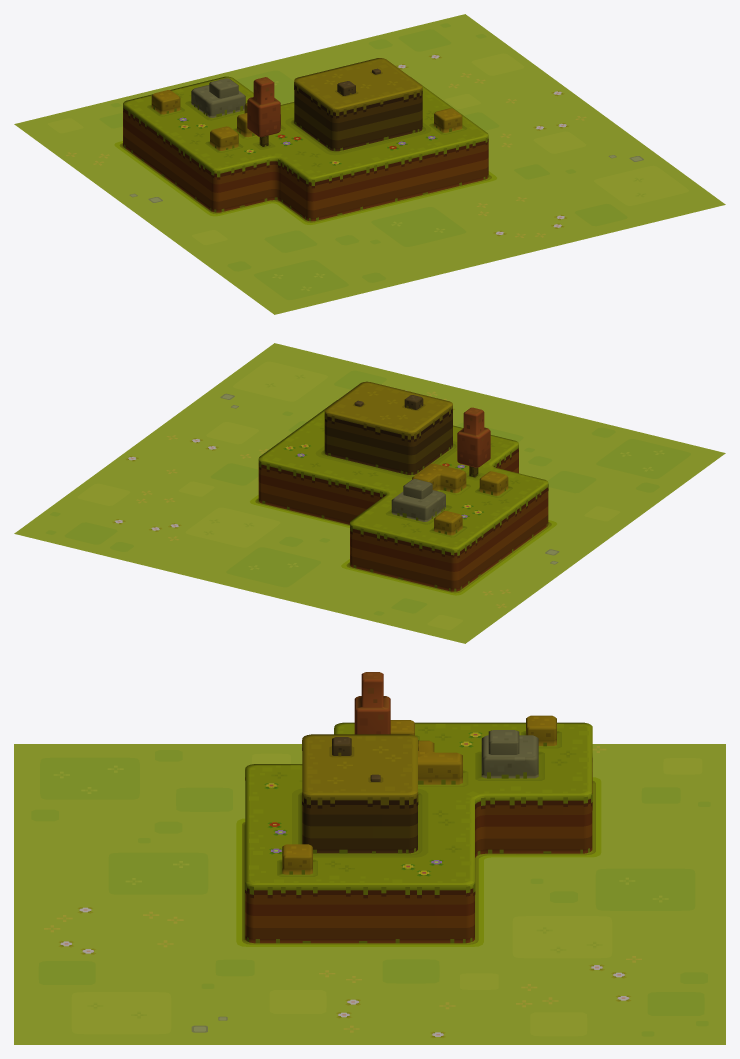
File: C_grass2_06.fbx
The picture shows the model from 3 angles, top to bottom: view 1: azimuth 30°, elevation 25°; view 2: azimuth 150°, elevation 25°; view 3: azimuth 270°, elevation 25°; orthographic projection. The views are drawn at different scales.
Parts seen in each view (by area): view 1: C_grass2_06; view 2: C_grass2_06; view 3: C_grass2_06.
Part boxes in pixels (x1,y1,x2,y2): C_grass2_06: (14,14,725,314); C_grass2_06: (14,343,725,643); C_grass2_06: (14,672,725,1044).
Size of the model in its own units: 50 by 11.52 by 50.
